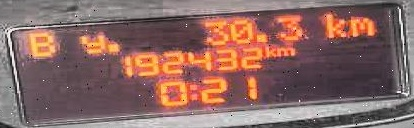-: (251, 30, 267, 42)
0: (157, 79, 186, 106), (227, 17, 255, 44)
1: (239, 75, 260, 99), (120, 54, 132, 76)
2: (200, 76, 226, 103), (162, 50, 181, 75), (241, 45, 260, 68)
3: (275, 14, 303, 42), (200, 18, 227, 43), (215, 46, 238, 70)
4: (185, 50, 210, 69)
9: (135, 52, 159, 76)
X: (27, 31, 56, 58), (322, 11, 347, 38), (75, 33, 102, 55), (349, 16, 373, 36), (276, 44, 295, 56), (186, 81, 198, 100), (104, 40, 121, 52), (262, 44, 275, 57)
